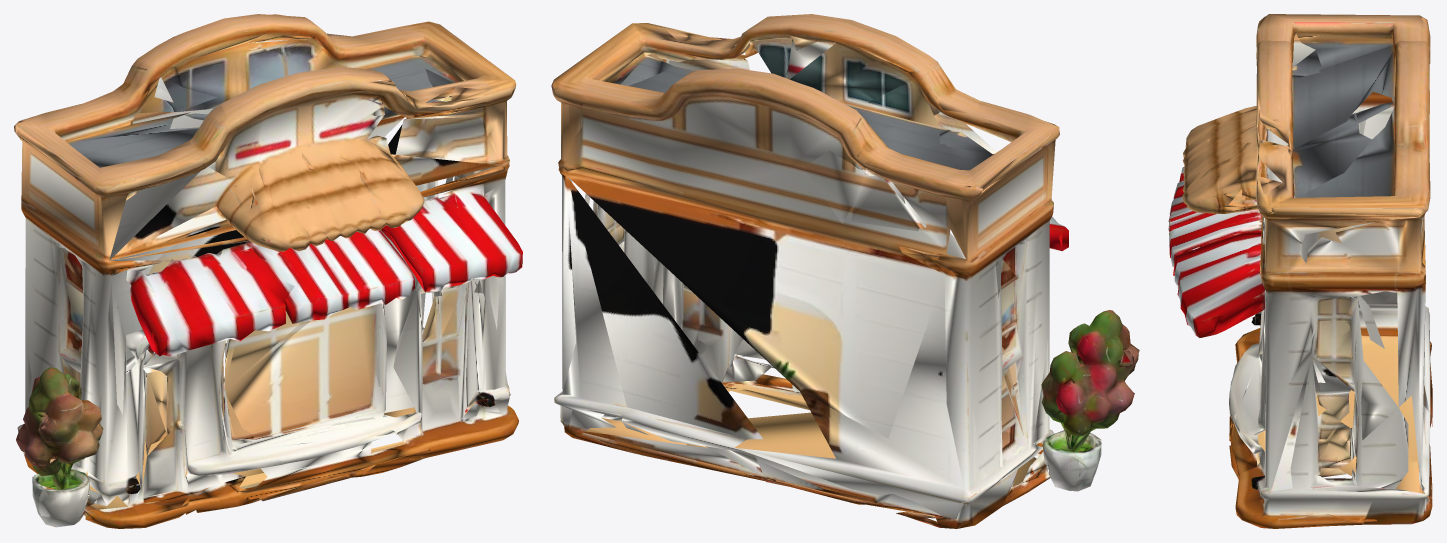
Rendered from shop_a.glb.
3 renders of one model, left to right at view 1: azimuth 30°, elevation 25°; view 2: azimuth 150°, elevation 25°; view 3: azimuth 270°, elevation 25°, orthographic. The views are drawn at different scales.
Parts seen in each view (by area): view 1: Mesh1.0; view 2: Mesh1.0; view 3: Mesh1.0.
Boxes of the visible parts, x1,y1,x2,y2 form: Mesh1.0: (14,14,522,528); Mesh1.0: (551,14,1139,528); Mesh1.0: (1168,14,1432,528).
Size of the model in its own units: 1.89 by 1.44 by 0.934.
1 material, 1 textured.
